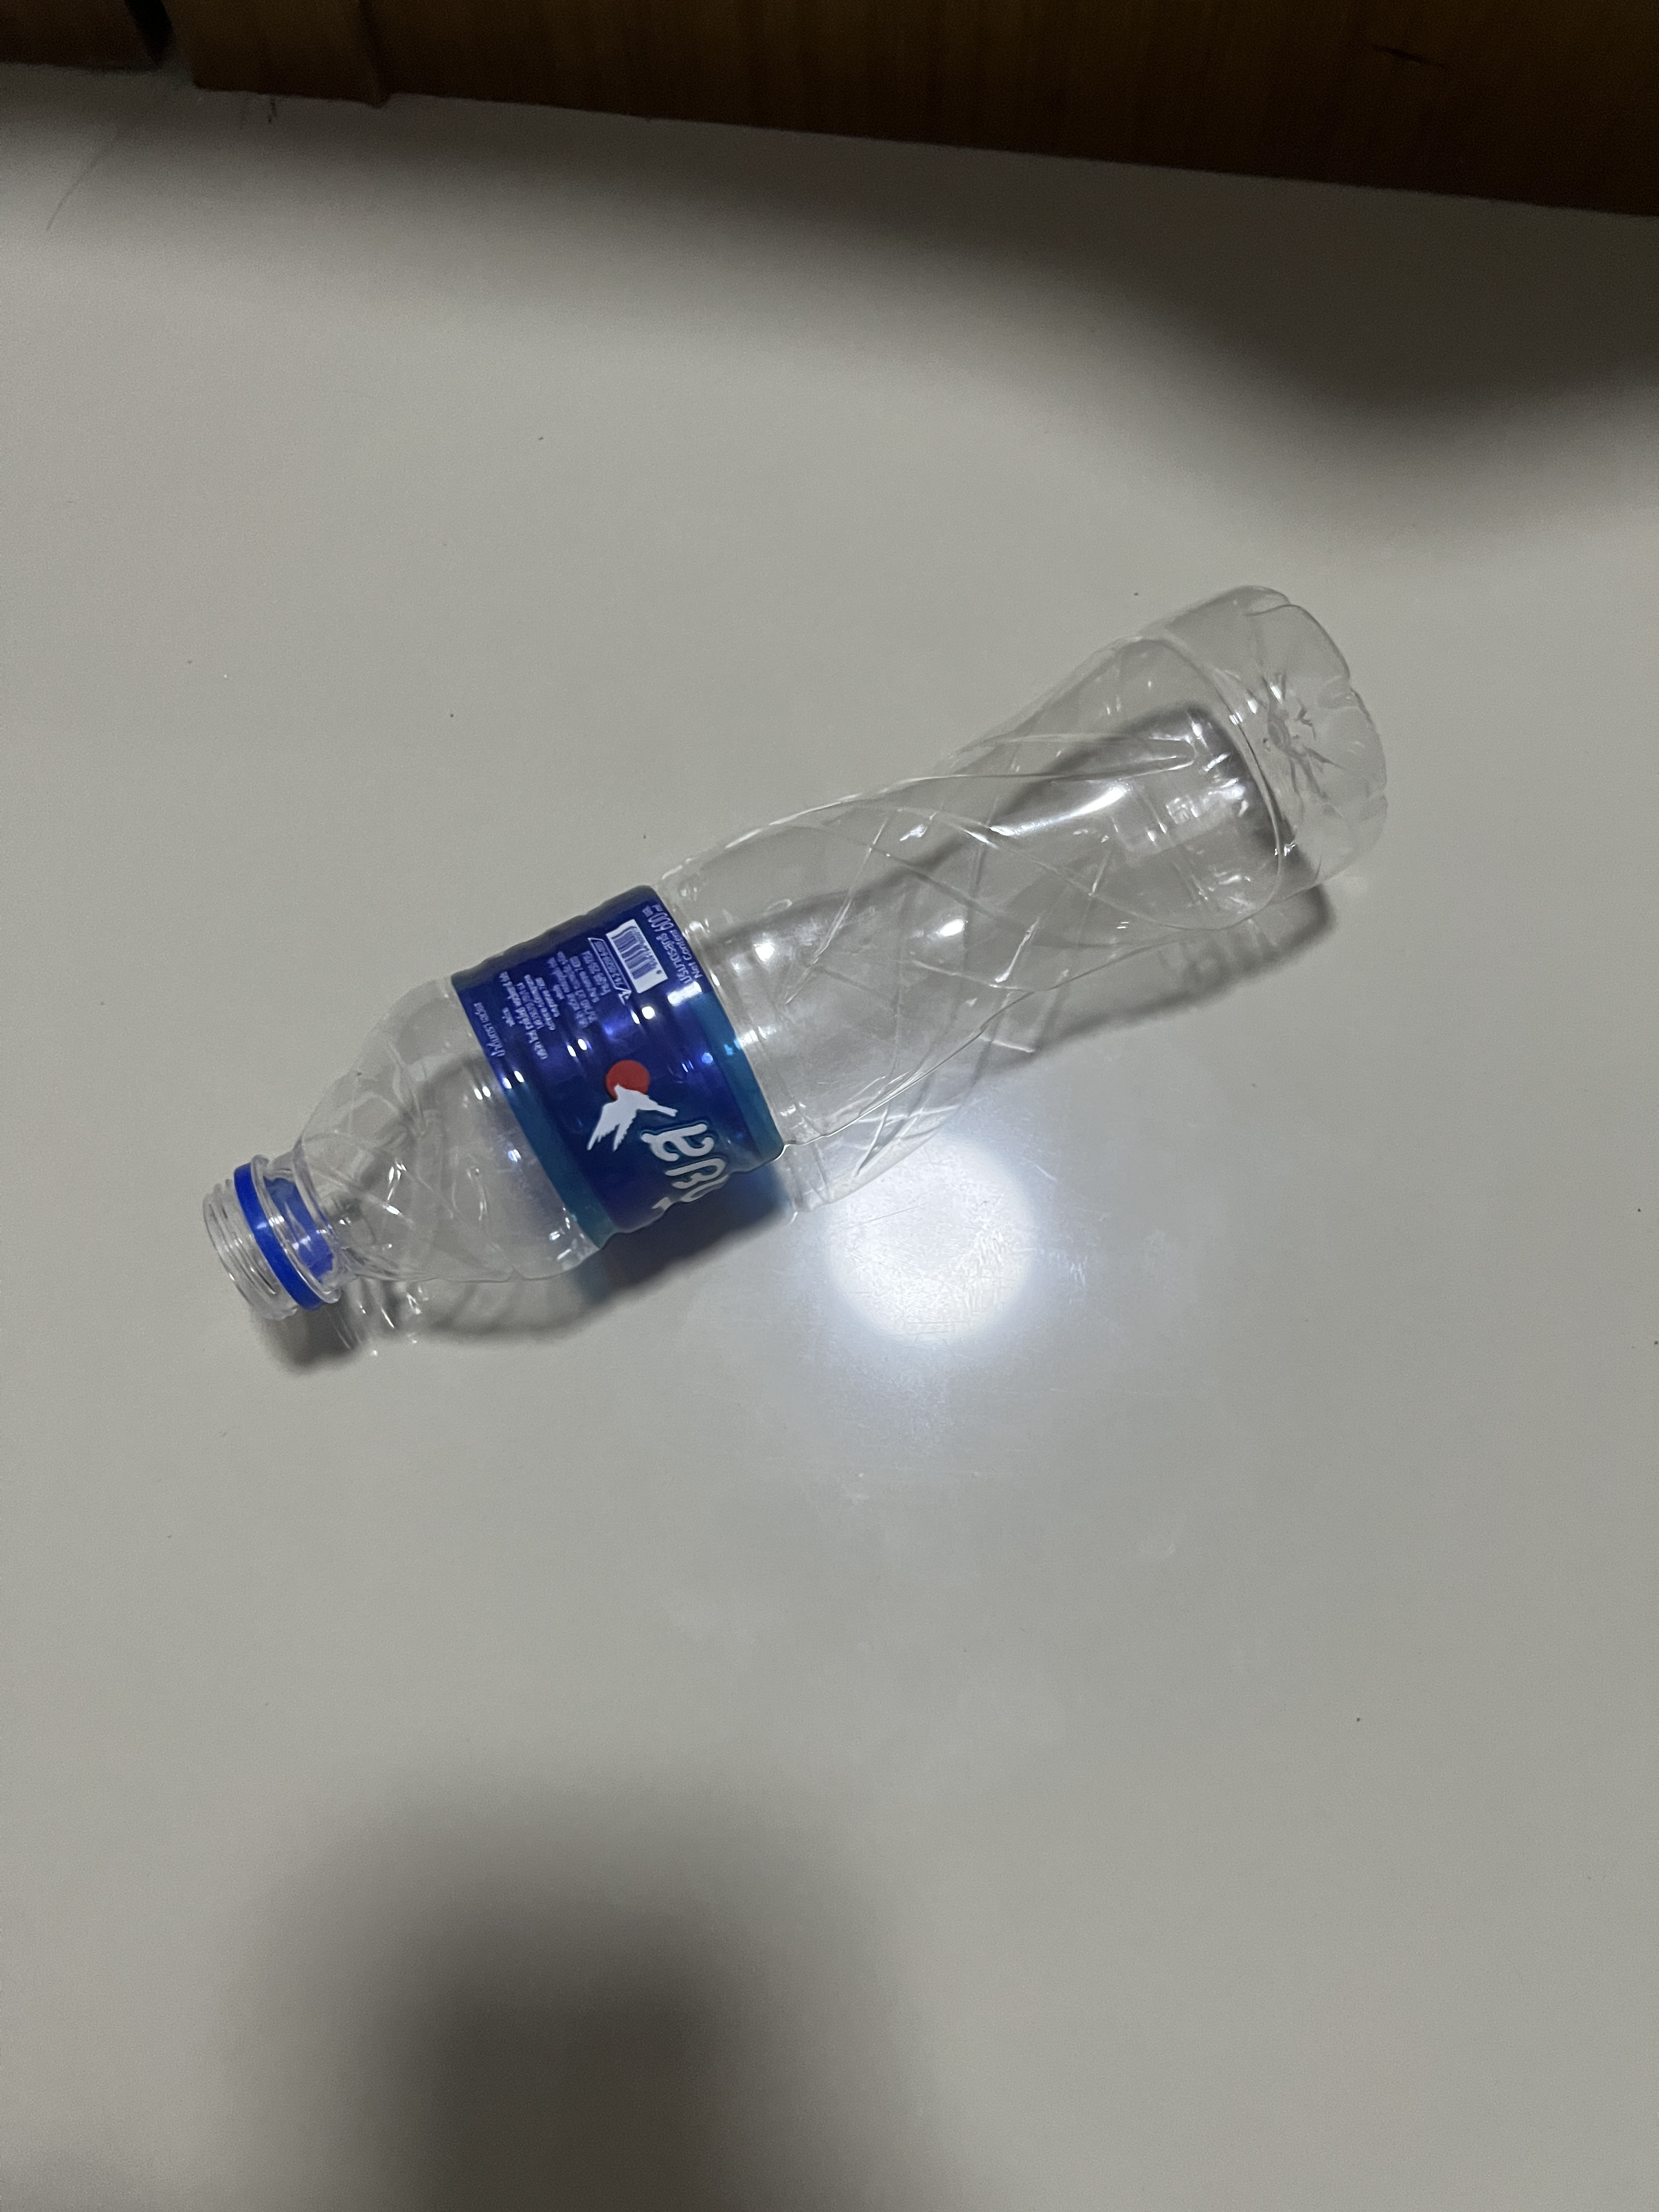plastic_bottle: (173, 486, 1436, 1395)
